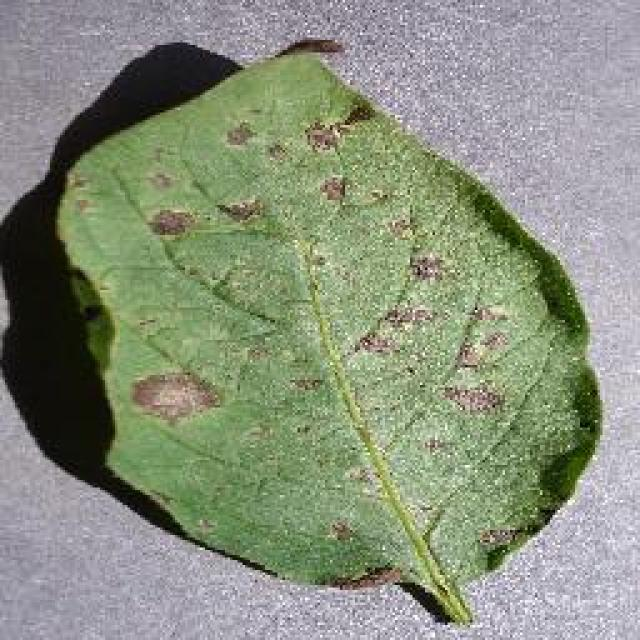early_blight: (48, 38, 608, 628)
